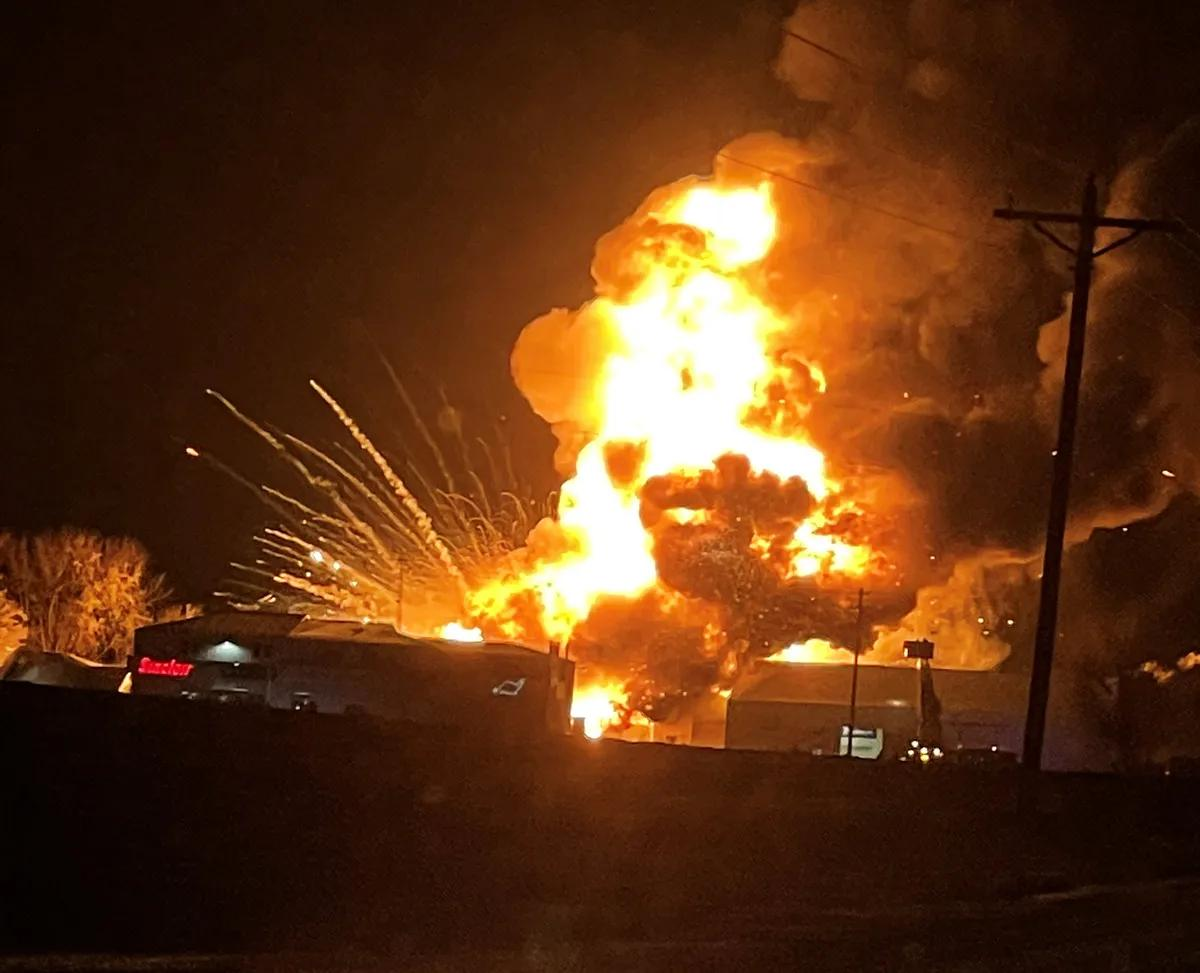fire: (445, 102, 873, 638)
